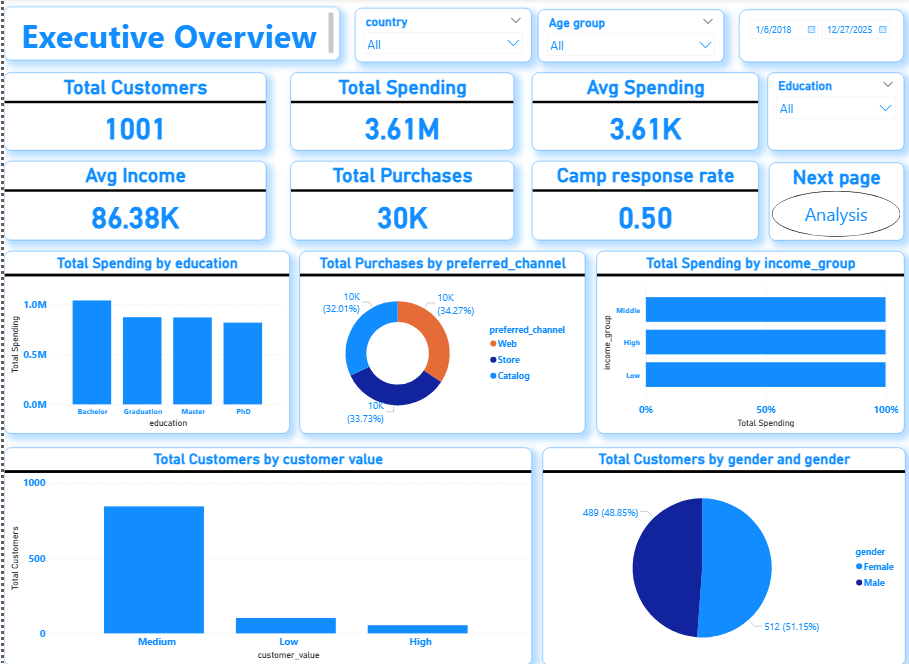

Layout of this report page (visuals, bound fields, positions):
{"tool":"powerbi","page":{"name":"Page 1","canvas":[1500,1100],"ordinal":0},"visuals":[{"type":"textbox","box":[0,13.2,553.7,88.8],"z":0},{"type":"card","title":"Total Customers","fields":{"Values":["marketing_customers.Total Customers"]},"box":[0,120.9,432.8,128.5],"z":1},{"type":"card","title":"Total Spending","fields":{"Values":["marketing_customers.Total Spending"]},"box":[472.4,120.9,368.5,128.5],"z":2},{"type":"card","title":"Avg Spending","fields":{"Values":["marketing_customers.Average Spending"]},"box":[871.2,120.9,374.2,128.5],"z":3},{"type":"card","title":"Avg Income","fields":{"Values":["marketing_customers.Average Income"]},"box":[0,266.5,432.8,130.4],"z":4},{"type":"card","title":"Total Purchases","fields":{"Values":["marketing_customers.Total Purchases"]},"box":[472.4,266.5,368.5,130.4],"z":5},{"type":"card","title":"Camp response rate","fields":{"Values":["marketing_customers.Campaign Response Rate"]},"box":[871.2,266.5,374.2,130.4],"z":6},{"type":"slicer","fields":{"Values":["marketing_customers.country"]},"box":[578.9,14.2,291.5,89.1],"z":7},{"type":"slicer","fields":{"Values":["marketing_customers.age_group"]},"box":[888.6,16.2,305.6,87],"z":8},{"type":"slicer","fields":{"Values":["marketing_customers.education"]},"box":[1214.4,12.1,271.2,91.1],"z":9},{"type":"pageNavigator","title":"Next page","box":[1265,121.4,220.6,127.5],"z":10},{"type":"clusteredColumnChart","fields":{"Category":["marketing_customers.education"],"Y":["marketing_customers.Total Spending"]},"box":[0,414.9,471.6,301.6],"z":11},{"type":"donutChart","fields":{"Category":["marketing_customers.preferred_channel"],"Y":["marketing_customers.Total Purchases"]},"box":[487.8,414.9,471.6,301.6],"z":12},{"type":"hundredPercentStackedBarChart","fields":{"Category":["marketing_customers.income_group"],"Y":["marketing_customers.Total Spending"]},"box":[977.6,414.9,508,301.6],"z":13},{"type":"clusteredColumnChart","title":"Total Customers by customer value","fields":{"Category":["marketing_customers.customer_value"],"Y":["marketing_customers.Total Customers"]},"box":[0,739.7,870.8,361.2],"z":14},{"type":"pieChart","fields":{"Category":["marketing_customers.gender"],"Series":["marketing_customers.gender"],"Y":["marketing_customers.Total Customers"]},"box":[888.1,739.7,598.7,361.2],"z":15}]}

Visuals, with their boxes in screenshot pixels (x1, y1, x2, y2), scaled from the page's 1500x1100 canvas onto the 909x664 screenshot:
textbox: 0 8 336 62
"Total Customers" card: 0 73 262 151
"Total Spending" card: 286 73 510 151
"Avg Spending" card: 528 73 755 151
"Avg Income" card: 0 161 262 240
"Total Purchases" card: 286 161 510 240
"Camp response rate" card: 528 161 755 240
slicer - marketing_customers.country: 351 9 527 62
slicer - marketing_customers.age_group: 538 10 724 62
slicer - marketing_customers.education: 736 7 900 62
"Next page" pageNavigator: 767 73 900 150
clusteredColumnChart - marketing_customers.education x marketing_customers.Total Spending: 0 250 286 433
donutChart - marketing_customers.preferred_channel x marketing_customers.Total Purchases: 296 250 581 433
hundredPercentStackedBarChart - marketing_customers.income_group x marketing_customers.Total Spending: 592 250 900 433
"Total Customers by customer value" clusteredColumnChart: 0 447 528 663
pieChart - marketing_customers.gender x marketing_customers.gender: 538 447 901 663
